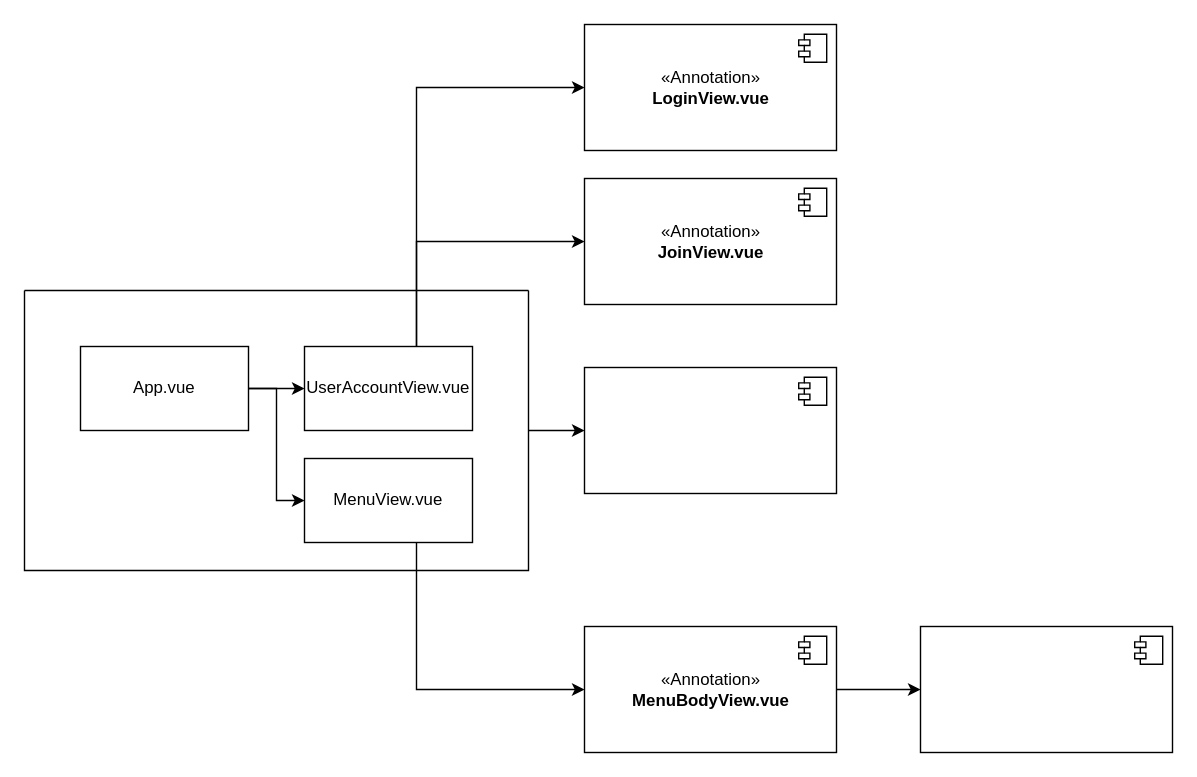
Some shapes in this 1197 by 777 pixel diagram are drawn without their labels. Each missing label, with the box of its shape:
«Annotation» MenuItem.vue: (919, 625, 1172, 752)
«Annotation» NewHeaderView.vue: (583, 366, 836, 493)
